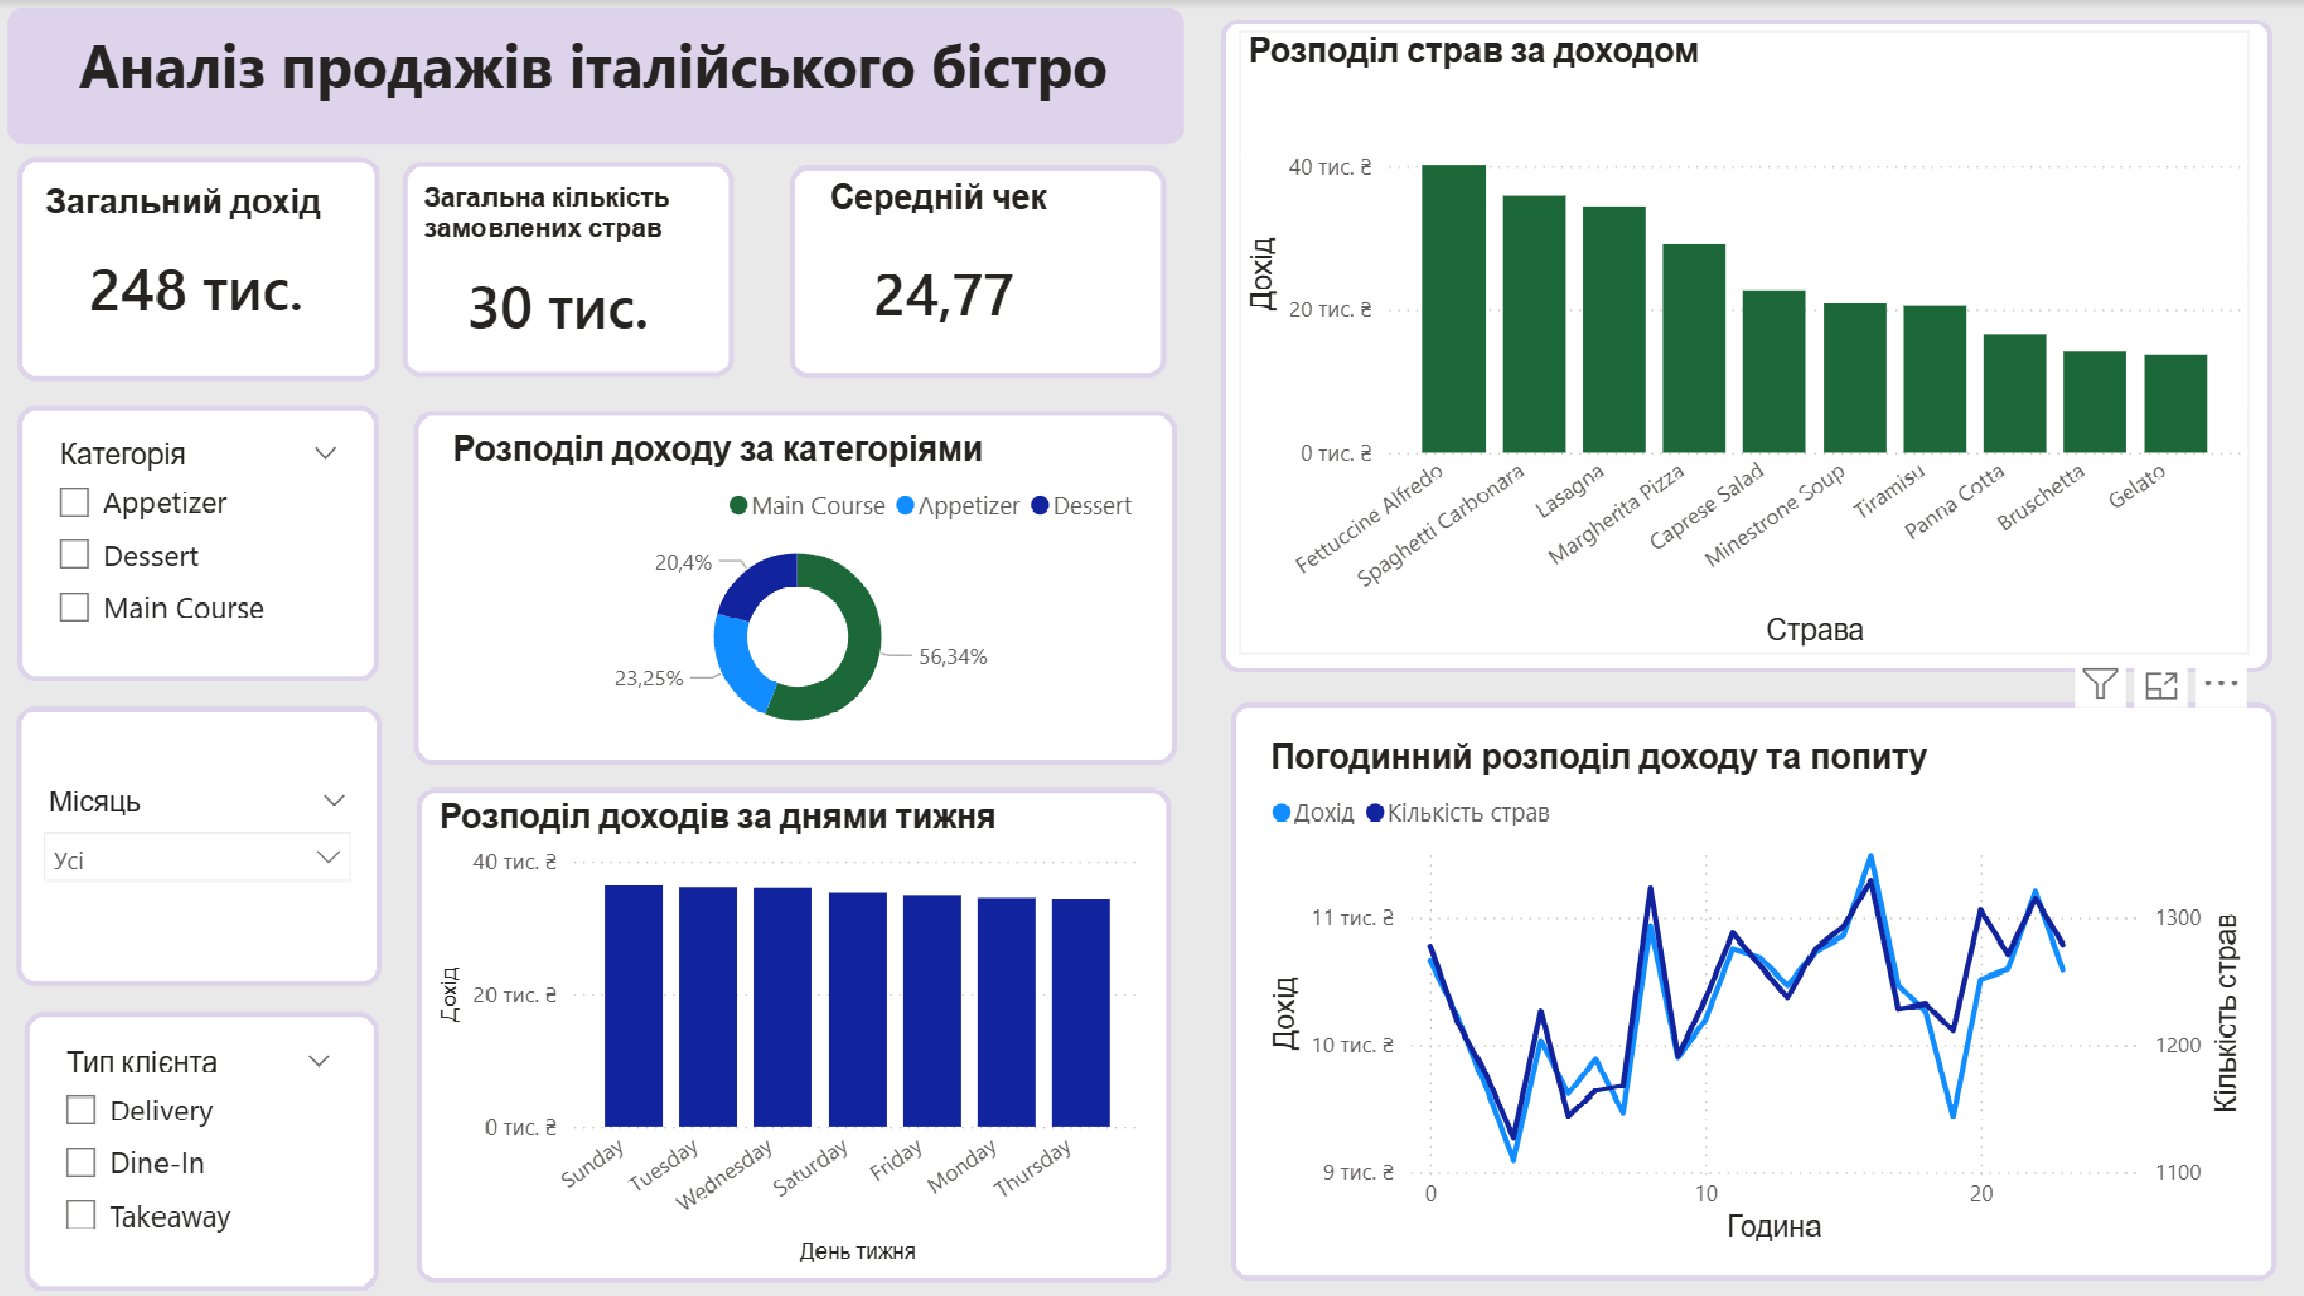

This screenshot's page, from the dashboard's own definition file:
{"tool":"powerbi","page":{"name":"Сторінка 2","canvas":[1280,720],"ordinal":0},"visuals":[{"type":"cardVisual","title":"Загальний дохід","fields":{"Data":["restaurant_sales_clean.Total Revenue"]},"box":[23.3,100.5,179,92],"z":0},{"type":"cardVisual","title":"Загальна кількість замовлених страв","fields":{"Data":["restaurant_sales_clean.Total Quantity"]},"box":[233,100.5,169.2,100.5],"z":1000},{"type":"cardVisual","title":"Середній чек","fields":{"Data":["restaurant_sales_clean.Average Order Value"]},"box":[457.3,98.1,174.1,103],"z":2000},{"type":"slicer","fields":{"Values":["restaurant_sales_clean.category"]},"box":[23.3,236.6,179,123.8],"z":3000},{"type":"slicer","fields":{"Values":["restaurant_sales_clean.month"]},"box":[17.2,427.9,190,69.9],"z":4000},{"type":"slicer","fields":{"Values":["restaurant_sales_clean.customer_type"]},"box":[27,571.3,171.6,128.7],"z":5000},{"type":"donutChart","title":"Розподіл доходу за категоріями","fields":{"Category":["restaurant_sales_clean.category"],"Y":["Sum(restaurant_sales_clean.revenue)"]},"box":[248.9,236.6,391.1,177.8],"z":6000},{"type":"lineChart","title":"Погодинний розподіл доходу та попиту","fields":{"Category":["restaurant_sales_clean.hour"],"Y":["Sum(restaurant_sales_clean.revenue)"],"Y2":["Sum(restaurant_sales_clean.quantity)"]},"box":[701.3,405.8,546.8,283.2],"z":7000},{"type":"clusteredColumnChart","title":"Розподіл доходів за днями тижня","fields":{"Category":["restaurant_sales_clean.weekday"],"Y":["Sum(restaurant_sales_clean.revenue)"]},"box":[241.5,438.9,398.5,261.1],"z":8000},{"type":"clusteredColumnChart","title":"Розподіл страв за доходом","fields":{"Category":["restaurant_sales_clean.menu_item"],"Y":["Sum(restaurant_sales_clean.revenue)"]},"box":[689,17.2,559.1,343.3],"z":9000},{"type":"textbox","box":[23.3,8.6,616.7,65],"z":10000}]}

Visuals, with their boxes in screenshot pixels (x1, y1, x2, y2), scaled from the page's 1280x720 canvas onto the 2304x1296 screenshot:
"Загальний дохід" cardVisual: {"x1": 42, "y1": 181, "x2": 364, "y2": 346}
"Загальна кількість замовлених страв" cardVisual: {"x1": 419, "y1": 181, "x2": 724, "y2": 362}
"Середній чек" cardVisual: {"x1": 823, "y1": 177, "x2": 1137, "y2": 362}
slicer - restaurant_sales_clean.category: {"x1": 42, "y1": 426, "x2": 364, "y2": 649}
slicer - restaurant_sales_clean.month: {"x1": 31, "y1": 770, "x2": 373, "y2": 896}
slicer - restaurant_sales_clean.customer_type: {"x1": 49, "y1": 1028, "x2": 357, "y2": 1260}
"Розподіл доходу за категоріями" donutChart: {"x1": 448, "y1": 426, "x2": 1152, "y2": 746}
"Погодинний розподіл доходу та попиту" lineChart: {"x1": 1262, "y1": 730, "x2": 2247, "y2": 1240}
"Розподіл доходів за днями тижня" clusteredColumnChart: {"x1": 435, "y1": 790, "x2": 1152, "y2": 1260}
"Розподіл страв за доходом" clusteredColumnChart: {"x1": 1240, "y1": 31, "x2": 2247, "y2": 649}
textbox: {"x1": 42, "y1": 15, "x2": 1152, "y2": 132}
